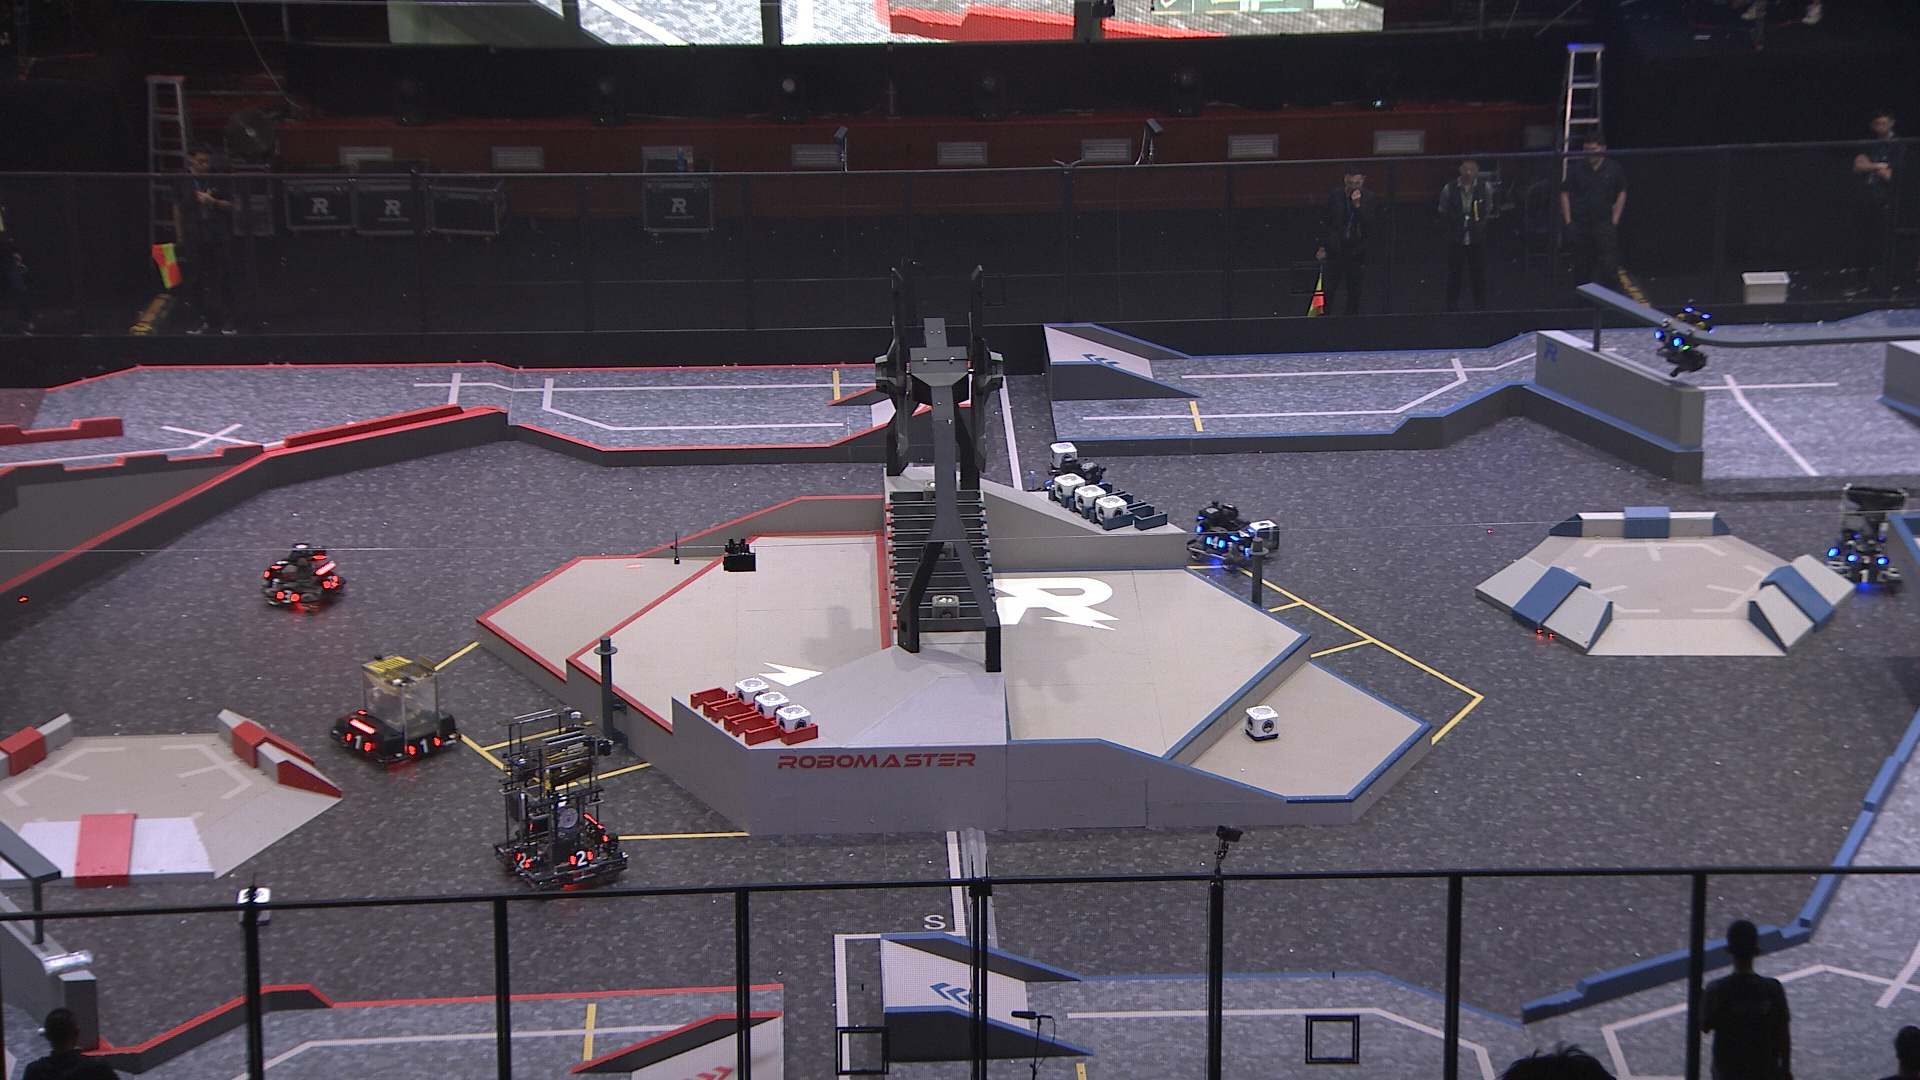armor: (406, 732, 443, 756), (342, 731, 373, 756), (1654, 327, 1685, 349), (272, 585, 302, 608), (1846, 551, 1887, 567), (1226, 524, 1255, 543), (568, 847, 593, 868), (1851, 567, 1880, 584), (319, 568, 342, 589), (266, 556, 291, 575), (1203, 533, 1225, 550), (514, 851, 531, 870)
car: (493, 705, 633, 891), (330, 651, 458, 767), (1822, 477, 1916, 585), (257, 538, 352, 615), (1185, 498, 1269, 576), (1021, 452, 1114, 520)
watcher: (1652, 295, 1716, 378)
